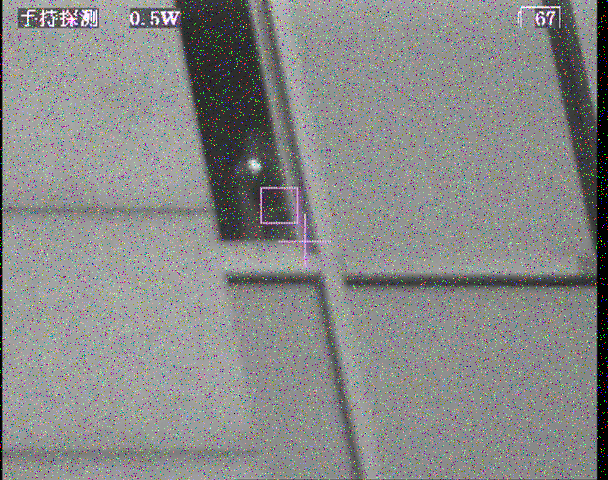my: (245, 157, 262, 174)
